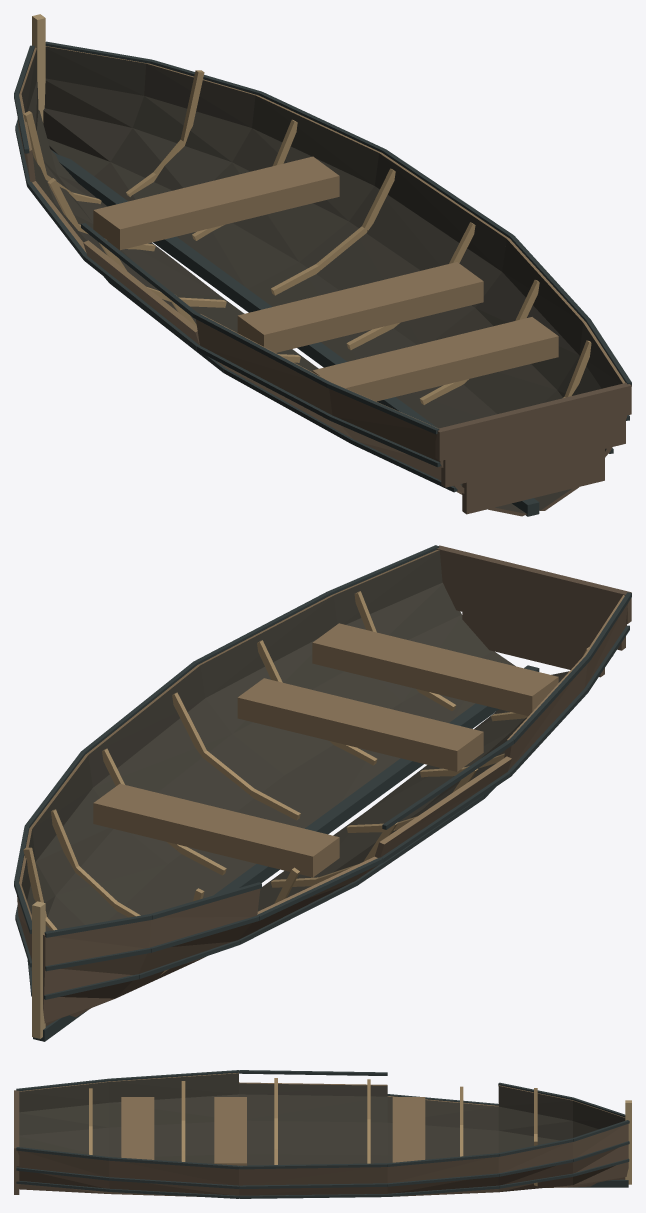
The model's file is SW_Boat_BrokenDinghy.fbx.
3 renders of one model, top to bottom at view 1: azimuth 30°, elevation 25°; view 2: azimuth 150°, elevation 25°; view 3: azimuth 270°, elevation 25°, orthographic. The views are drawn at different scales.
Visible parts, largest first — view 1: SW_Boat_BrokenDinghy; view 2: SW_Boat_BrokenDinghy; view 3: SW_Boat_BrokenDinghy.
Part boxes in pixels (<box>): SW_Boat_BrokenDinghy: <box>14,14,631,516</box>; SW_Boat_BrokenDinghy: <box>14,545,631,1041</box>; SW_Boat_BrokenDinghy: <box>14,1070,631,1198</box>.
Size of the model in its own units: 1.61 by 0.652 by 4.33.
